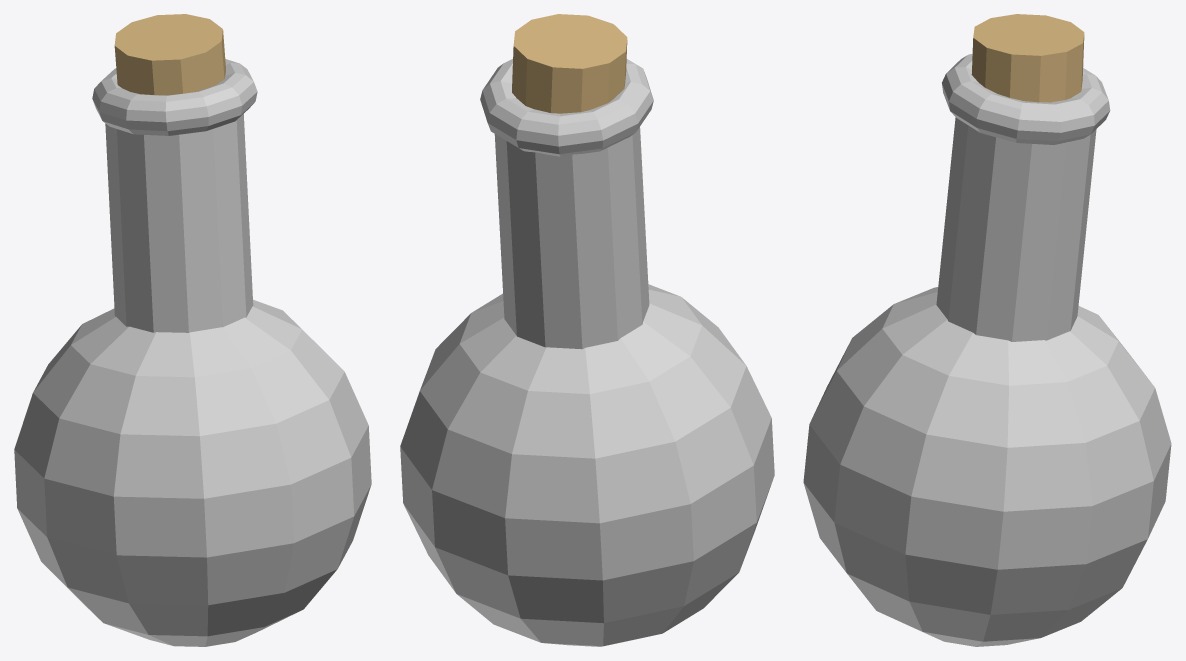
Rendered from potion.fbx.
3 renders of one model, left to right at view 1: azimuth 30°, elevation 25°; view 2: azimuth 150°, elevation 25°; view 3: azimuth 270°, elevation 25°, orthographic. The views are drawn at different scales.
Visible parts, largest first — view 1: mesh_1835596300, mesh_1611186748, mesh_253512945, mesh_307446706; view 2: mesh_1835596300, mesh_1611186748, mesh_253512945, mesh_307446706; view 3: mesh_1835596300, mesh_1611186748, mesh_253512945, mesh_307446706.
Boxes of the visible parts, x1=… form: mesh_1835596300: x1=14, y1=299, x2=371, y2=646; mesh_1611186748: x1=105, y1=114, x2=253, y2=332; mesh_253512945: x1=114, y1=14, x2=225, y2=95; mesh_307446706: x1=92, y1=59, x2=257, y2=135; mesh_1835596300: x1=400, y1=284, x2=774, y2=646; mesh_1611186748: x1=494, y1=127, x2=649, y2=349; mesh_253512945: x1=512, y1=14, x2=627, y2=113; mesh_307446706: x1=480, y1=59, x2=653, y2=156; mesh_1835596300: x1=803, y1=287, x2=1171, y2=646; mesh_1611186748: x1=936, y1=117, x2=1096, y2=341; mesh_253512945: x1=971, y1=14, x2=1084, y2=102; mesh_307446706: x1=942, y1=54, x2=1110, y2=144.
Bounding box in the file's own units: 12.77 × 23.1 × 12.92.
